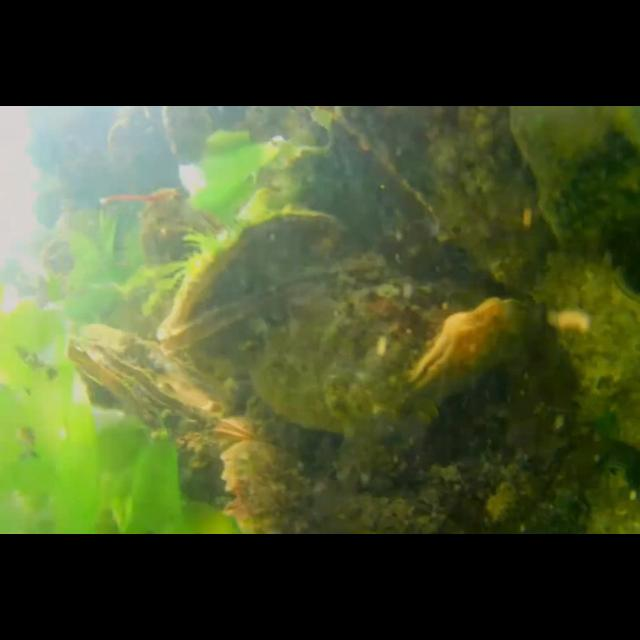Oyster-Closed: (331, 107, 559, 296), (504, 106, 640, 256), (136, 187, 228, 267)
Oyster-Open: (158, 255, 464, 455), (164, 212, 362, 336), (530, 247, 640, 445), (64, 324, 214, 438), (404, 295, 536, 407), (212, 414, 260, 448)
